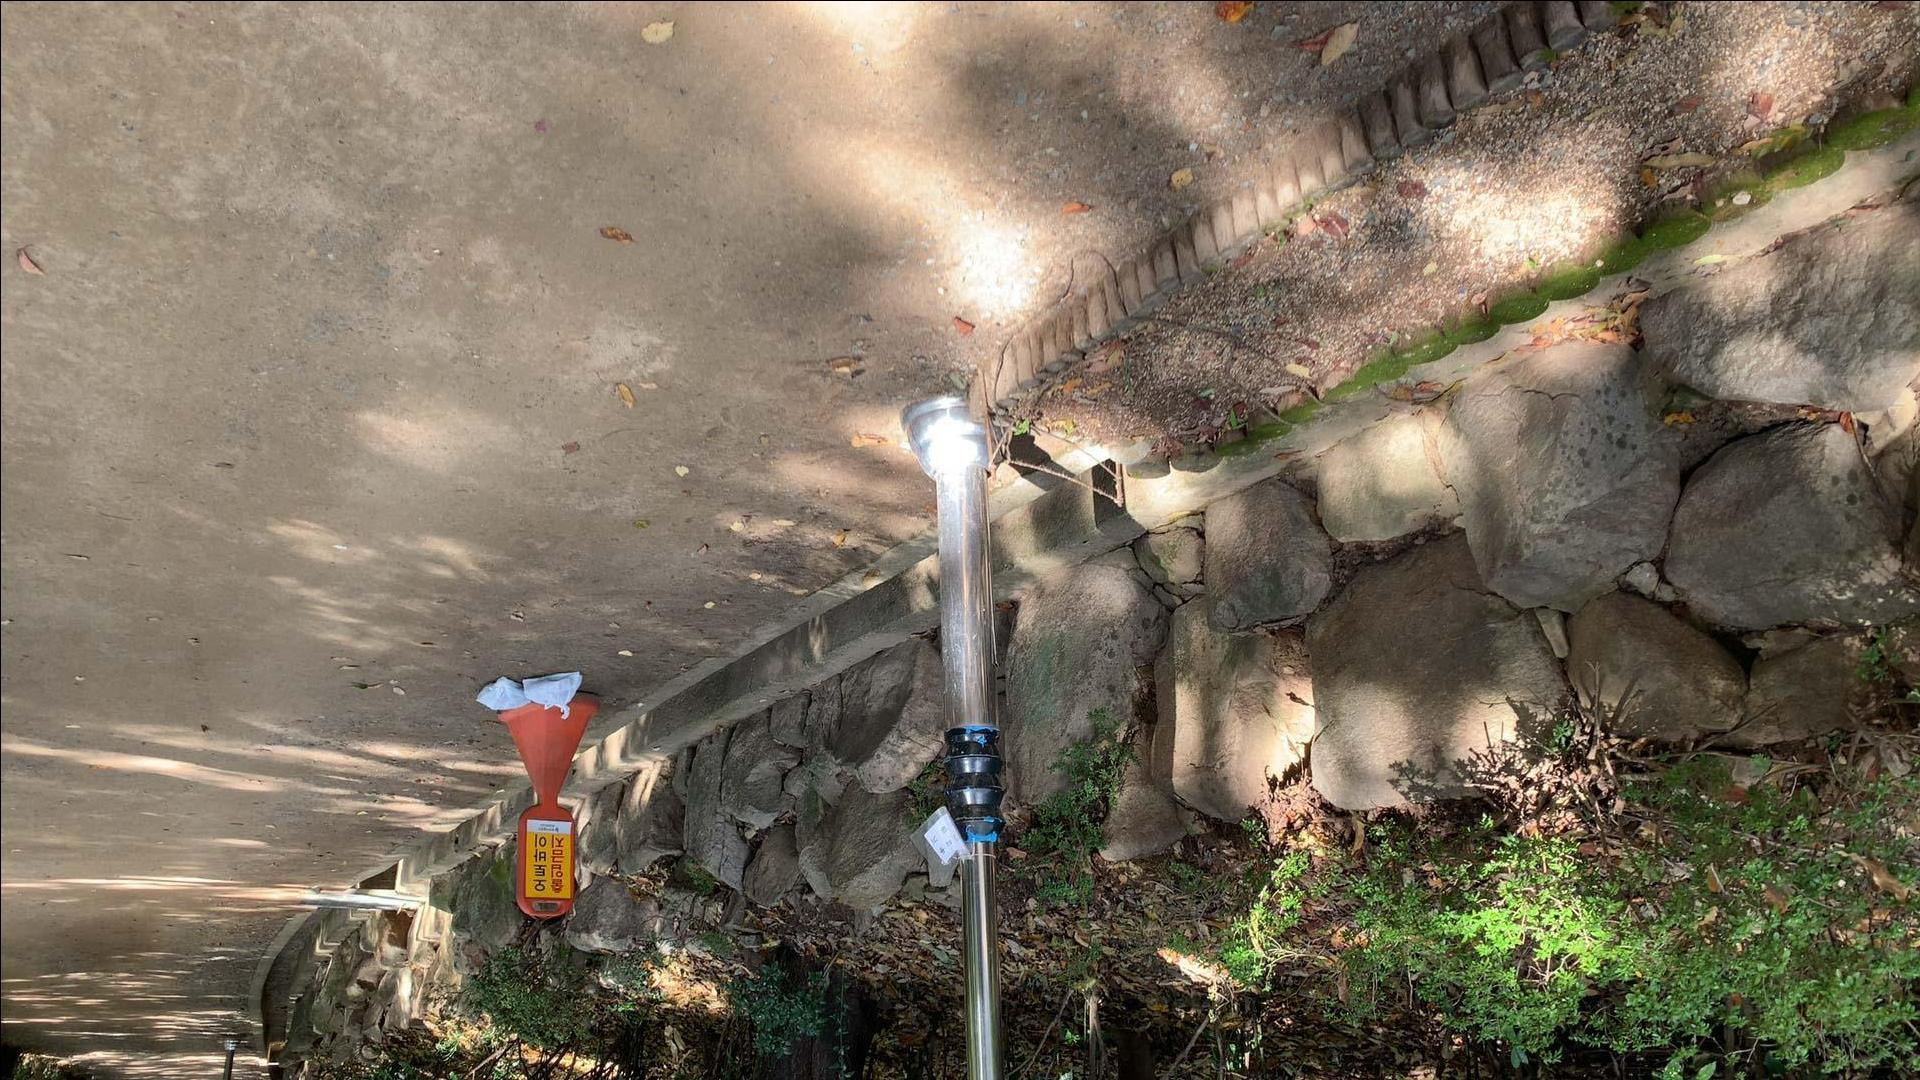white_bag: (520, 669, 587, 720), (473, 673, 534, 713)
